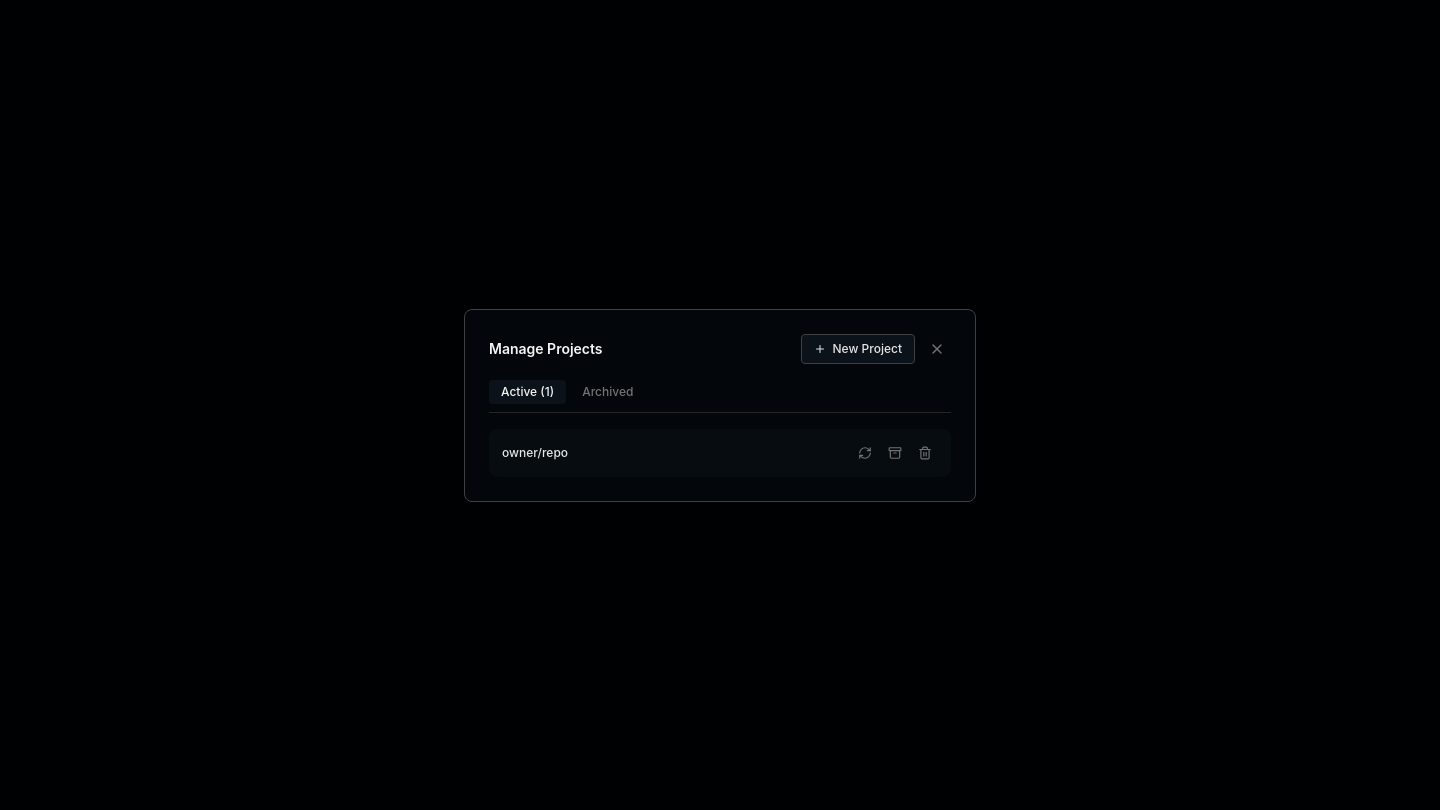
Scenario: ProjectManagementModal › cancel confirm returns to normal state
What coordinates should you click on to do the following:
click the button with test id "delete-btn-proj-1"
I would click on:
 (925, 452)
Its box is [912,440,938,466].
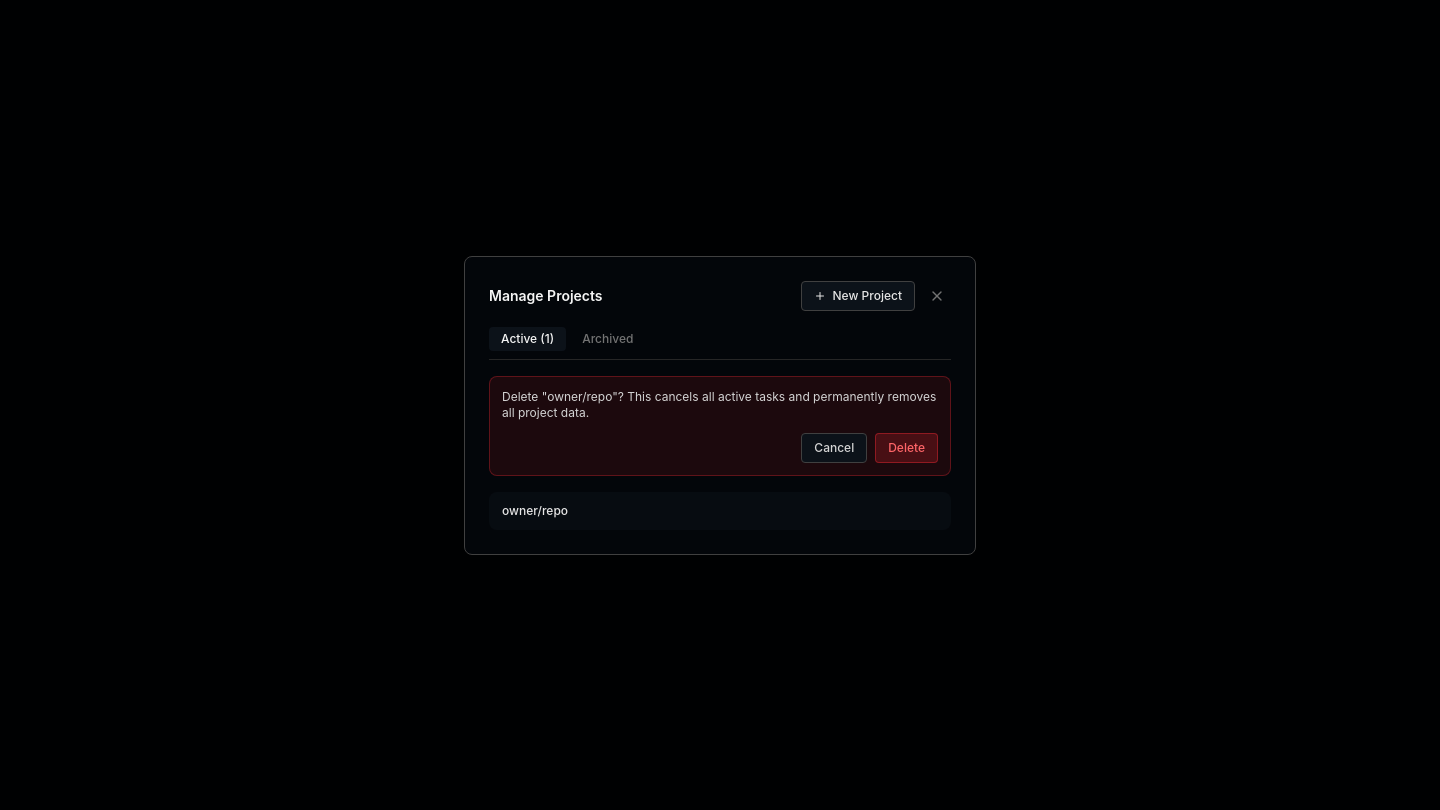
Expected: the element with test id "confirm-panel" is shown, [489,376,951,476]
What coordinates should you click on to do the following:
click the button "Cancel"
I would click on:
 (834, 448)
Its box is [801,432,867,462].
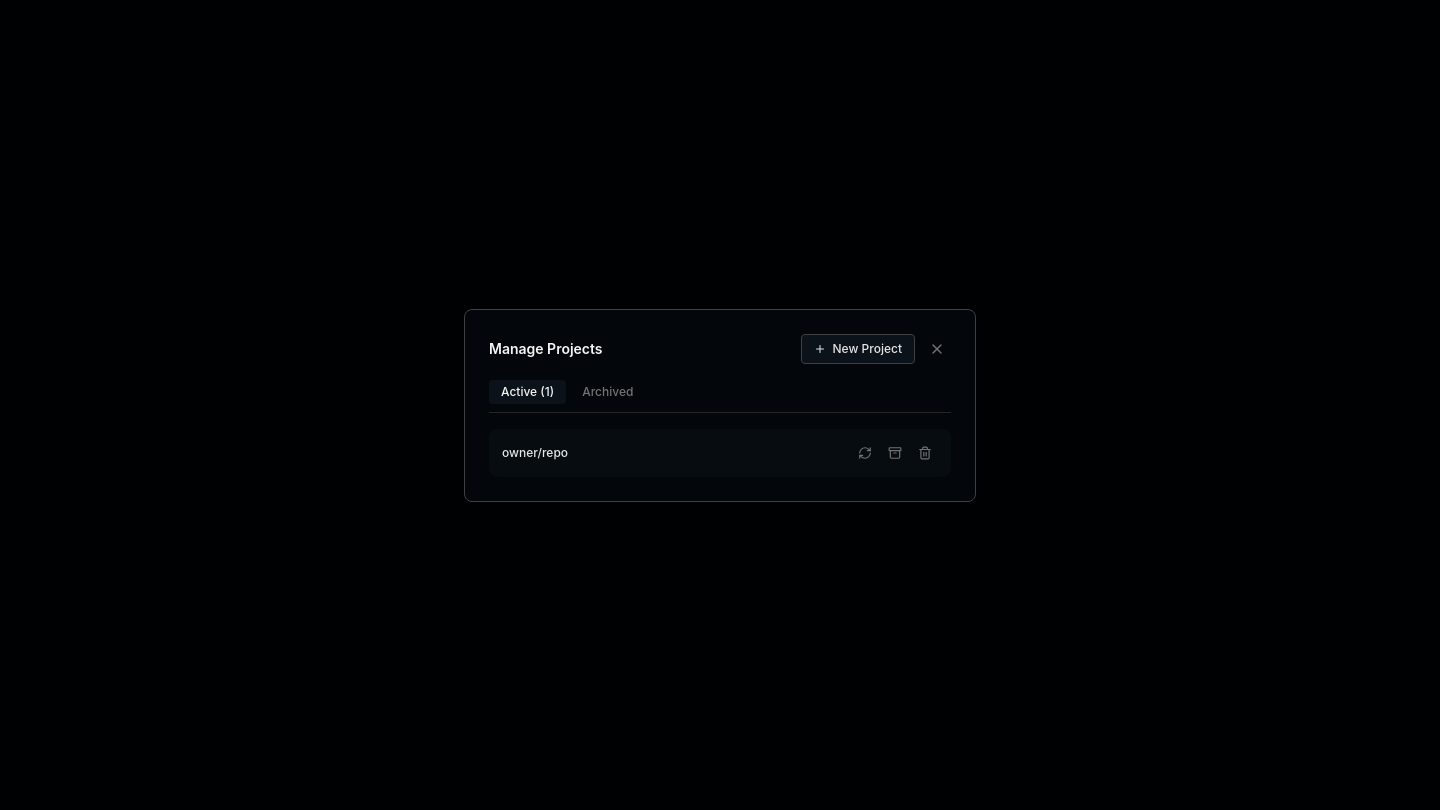
Expected: the element with test id "confirm-panel" is gone
Expected: the button with test id "delete-btn-proj-1" is shown, [912,440,938,466]
